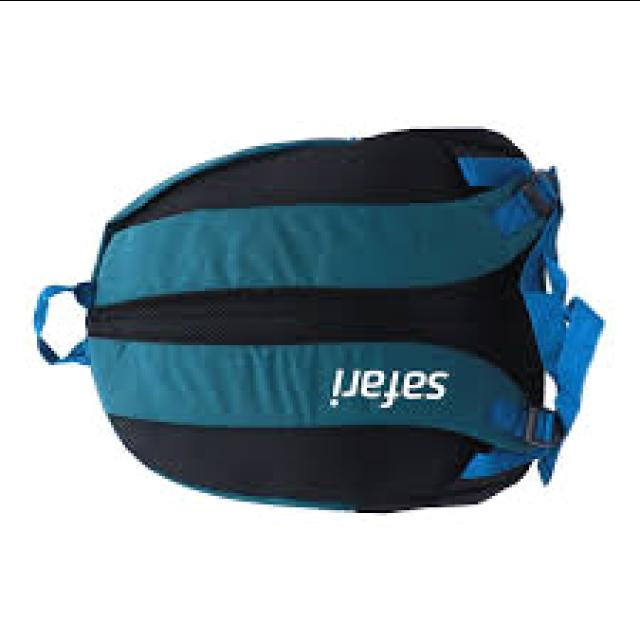backpack: (32, 126, 584, 516)
